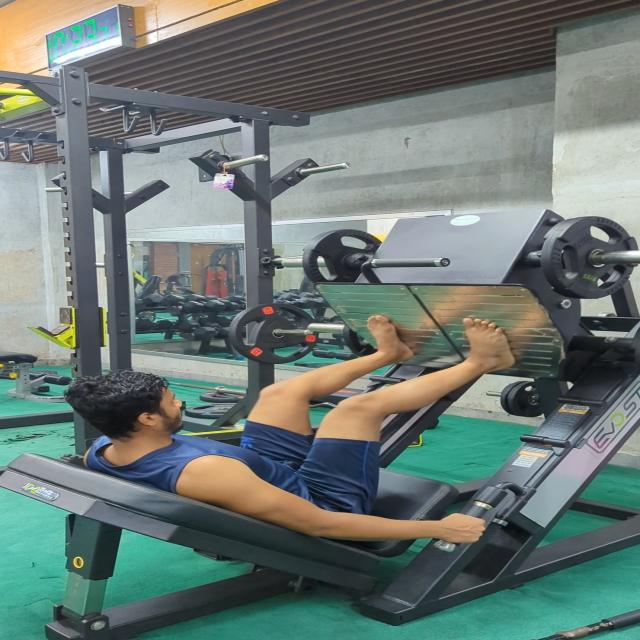Normal_LegPress: (62, 310, 524, 550)
